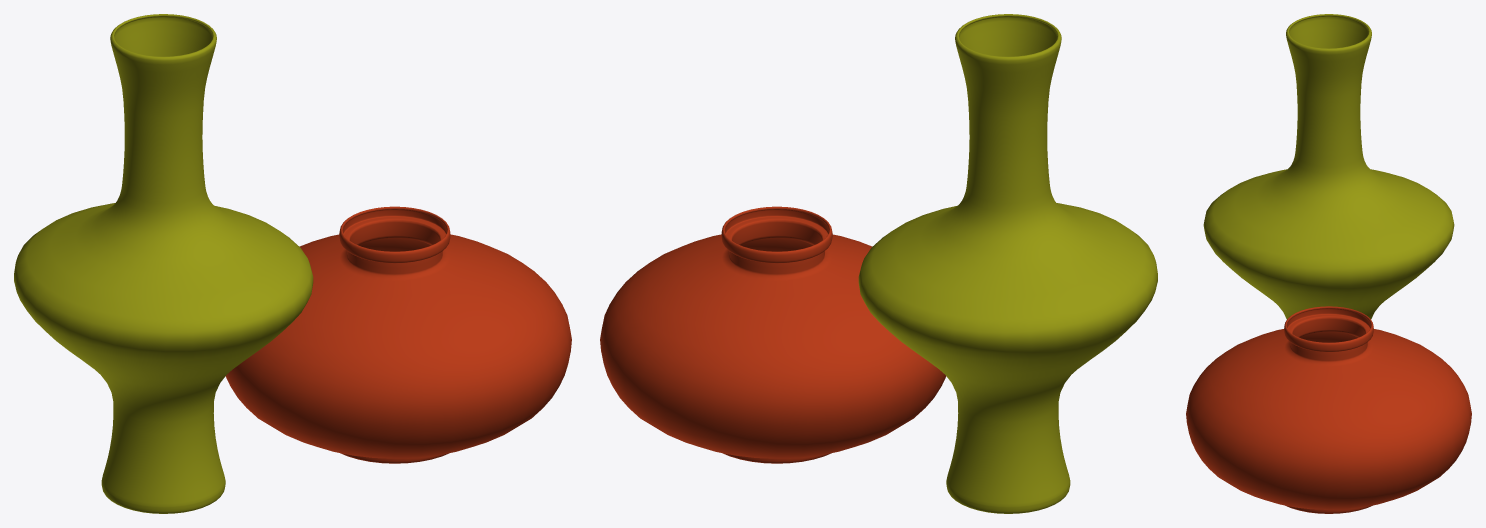
File: Vase yellow blue.FBX
3 views of the same model, side by side, from view 1: azimuth 30°, elevation 25°; view 2: azimuth 150°, elevation 25°; view 3: azimuth 270°, elevation 25° (orthographic). The views are drawn at different scales.
Visible parts, largest first — view 1: Cylinder002, Cylinder001; view 2: Cylinder002, Cylinder001; view 3: Cylinder001, Cylinder002.
Part boxes in pixels (x1,y1,x2,y2): Cylinder002: (14, 14, 313, 513); Cylinder001: (225, 206, 571, 463); Cylinder002: (858, 14, 1157, 513); Cylinder001: (600, 206, 946, 463); Cylinder001: (1186, 306, 1471, 513); Cylinder002: (1203, 14, 1454, 319).
Size of the model in its own units: 427 by 361 by 255.
